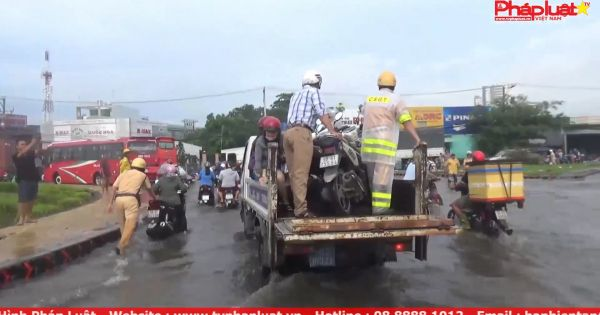police: (111, 160, 160, 256)
